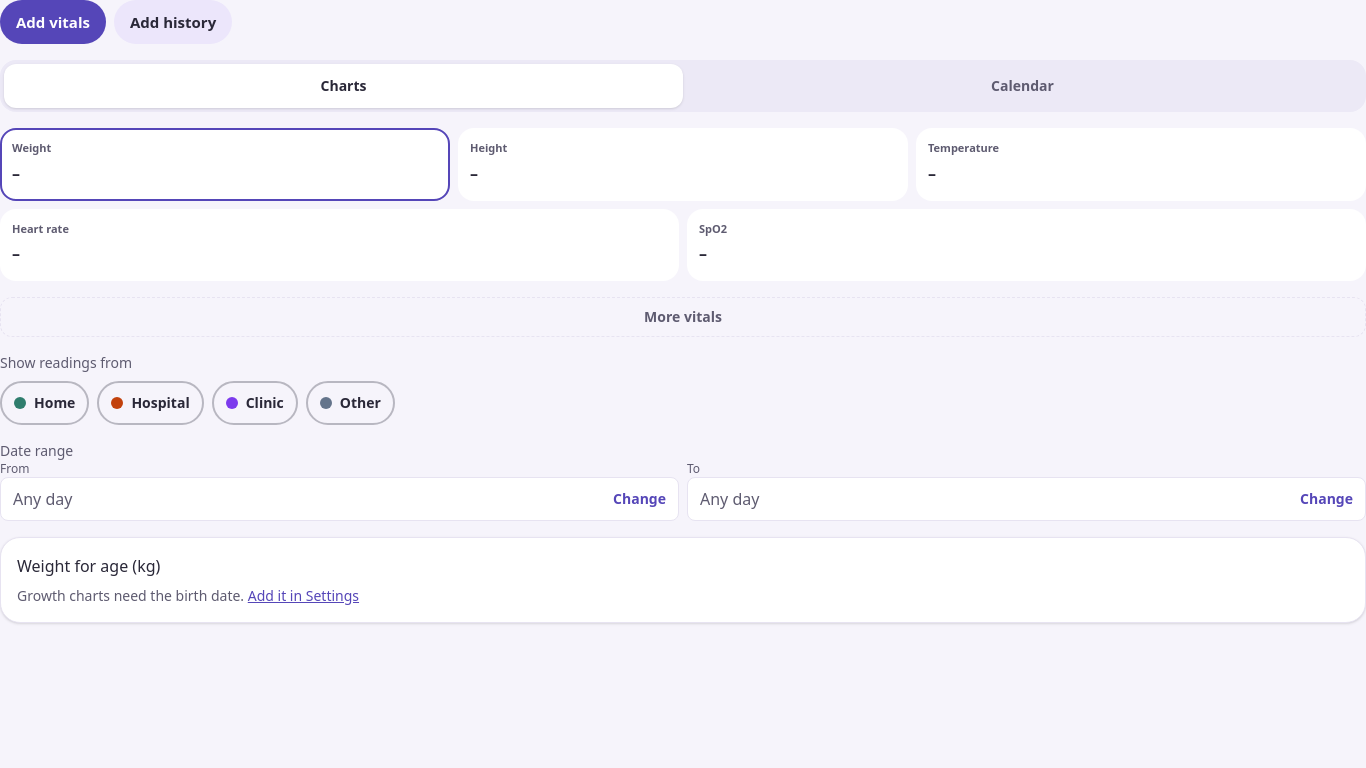
Scenario: queued entry shows waiting to sync
Step 1. Click the radio button labelled "Calendar" → x=1022, y=86, box [683,64,1362,108]
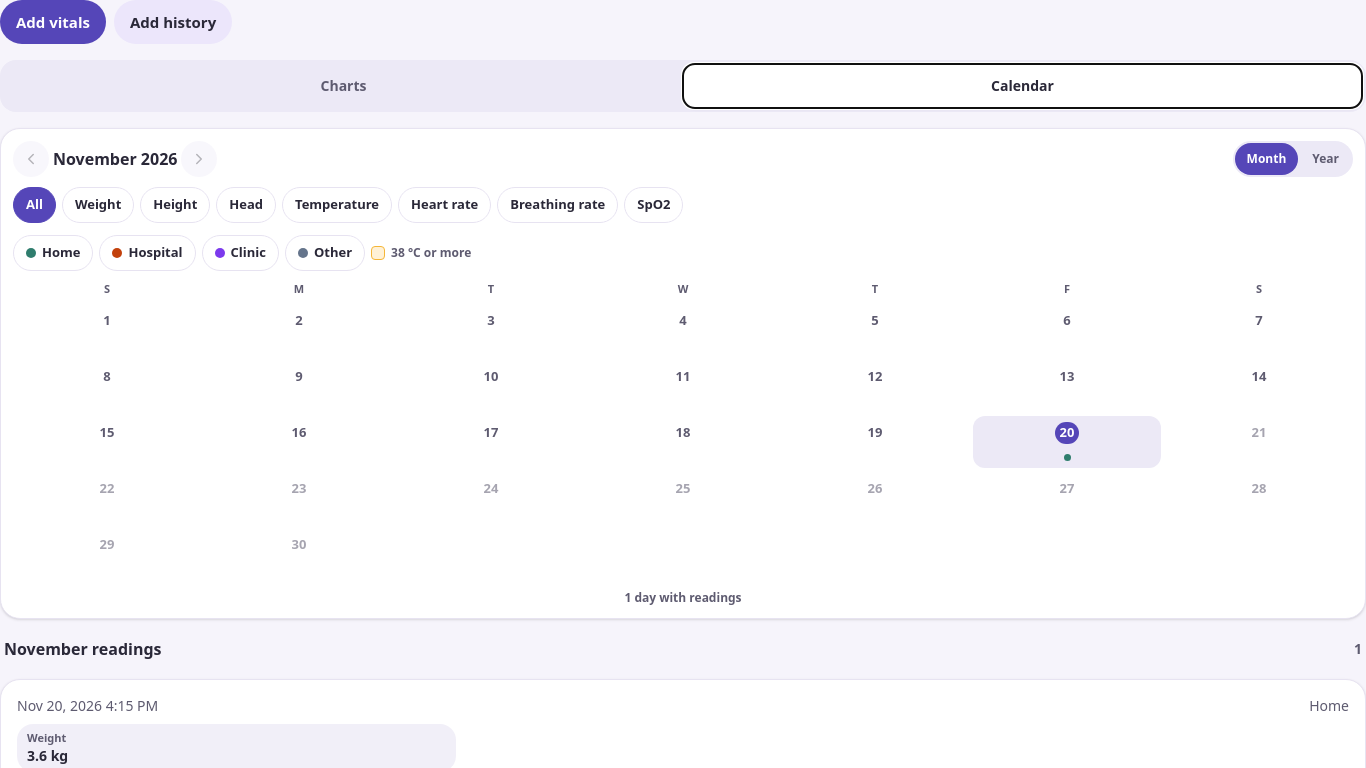
Expected: the text "3.6 kg" is shown, [27,746,68,765]
